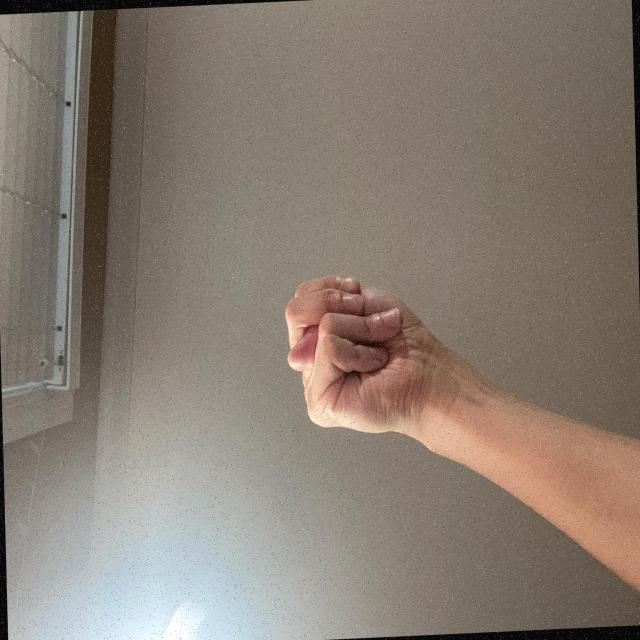N: (146, 376, 286, 607)
